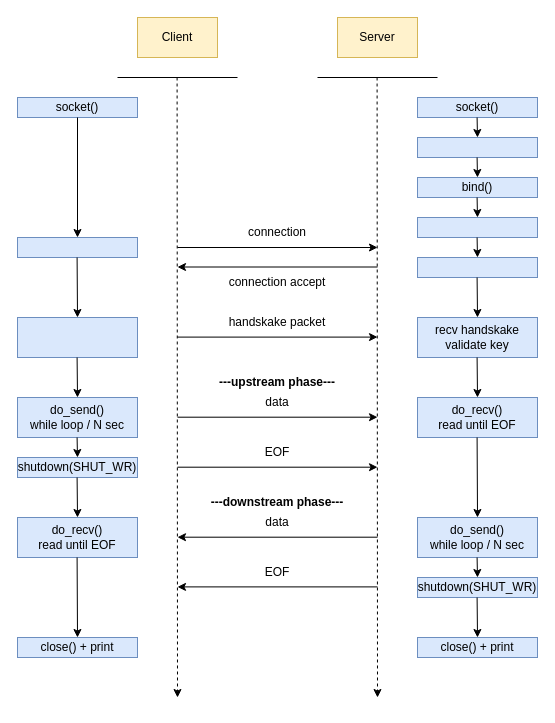
This 555x723 diagram has some shape labels left out. The shapes that lost their labels are listed below. From the top down, each one's centre as x and y in pixels, then its label:
At [477,147]: "setsockopt()".
At [77,247]: "connect()".
At [477,227]: "listen()".
At [477,267]: "accept()".
At [77,337]: "send handskake key/mode/duration".
